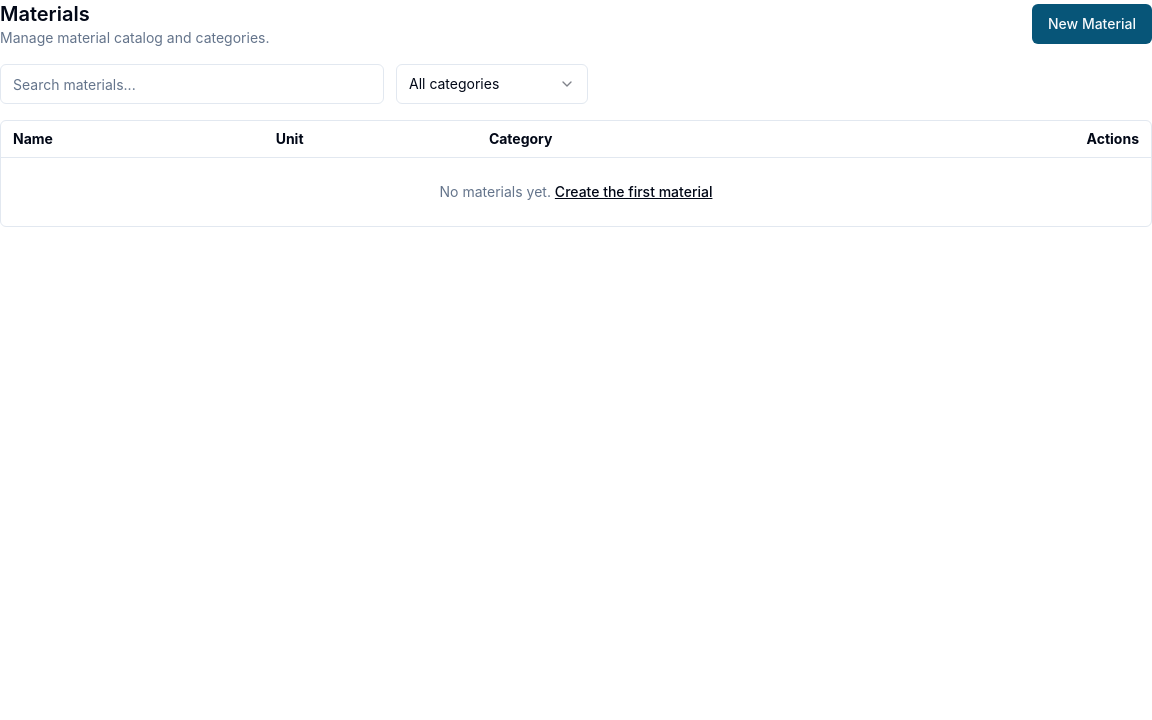
Test case: MaterialsPage › opens create material dialog
Click the button "New Material" at point(1092, 24), box [1032,4,1151,44]
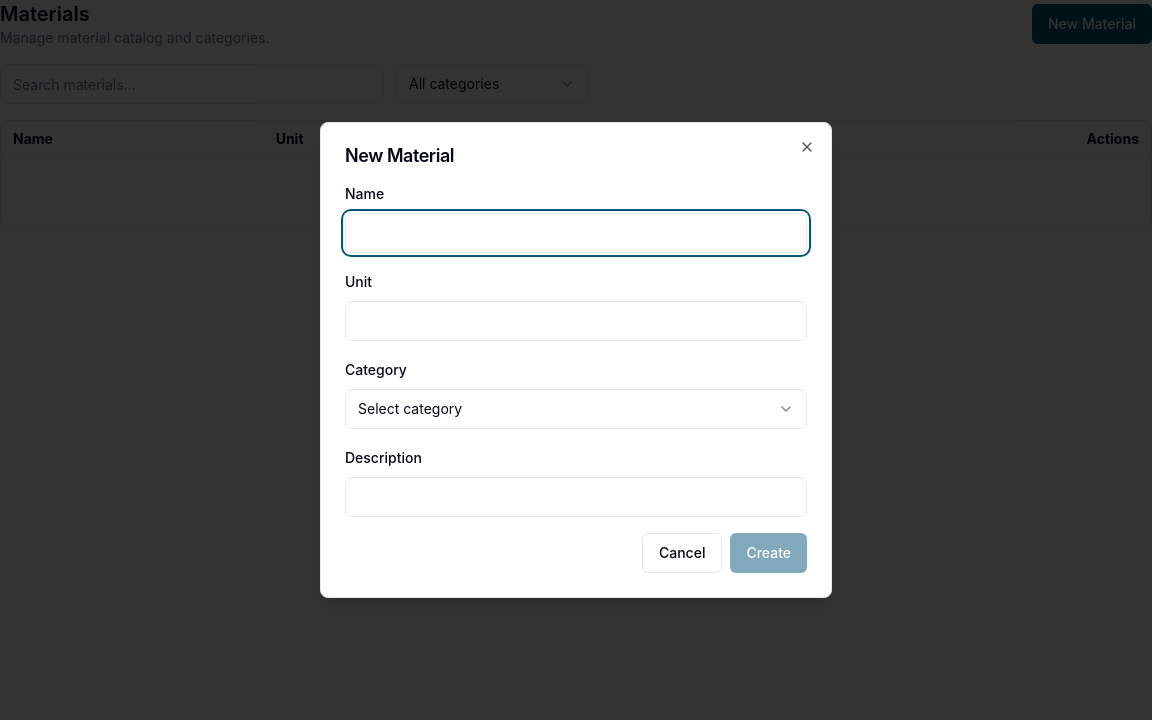
Expected: the text "Description" is shown, [345,449,422,466]
